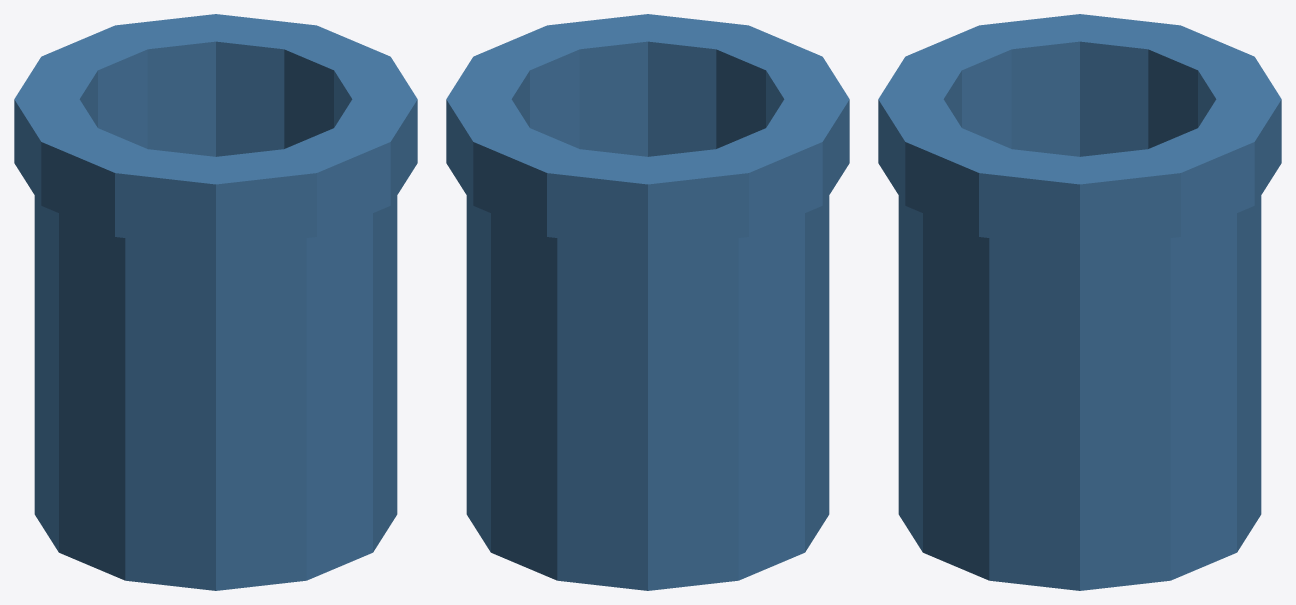
Rendered from O_Enviroment_MetalPipe_End2.fbx.
3 views of the same model, side by side, from view 1: azimuth 30°, elevation 25°; view 2: azimuth 150°, elevation 25°; view 3: azimuth 270°, elevation 25° (orthographic).
Parts seen in each view (by area): view 1: pCylinder4; view 2: pCylinder4; view 3: pCylinder4.
Part boxes in pixels (box(x1,y1,x2,y2)): pCylinder4: box(14, 14, 417, 590); pCylinder4: box(446, 14, 849, 590); pCylinder4: box(878, 14, 1281, 590).
Size of the model in its own units: 1.3 by 1.48 by 1.3.
